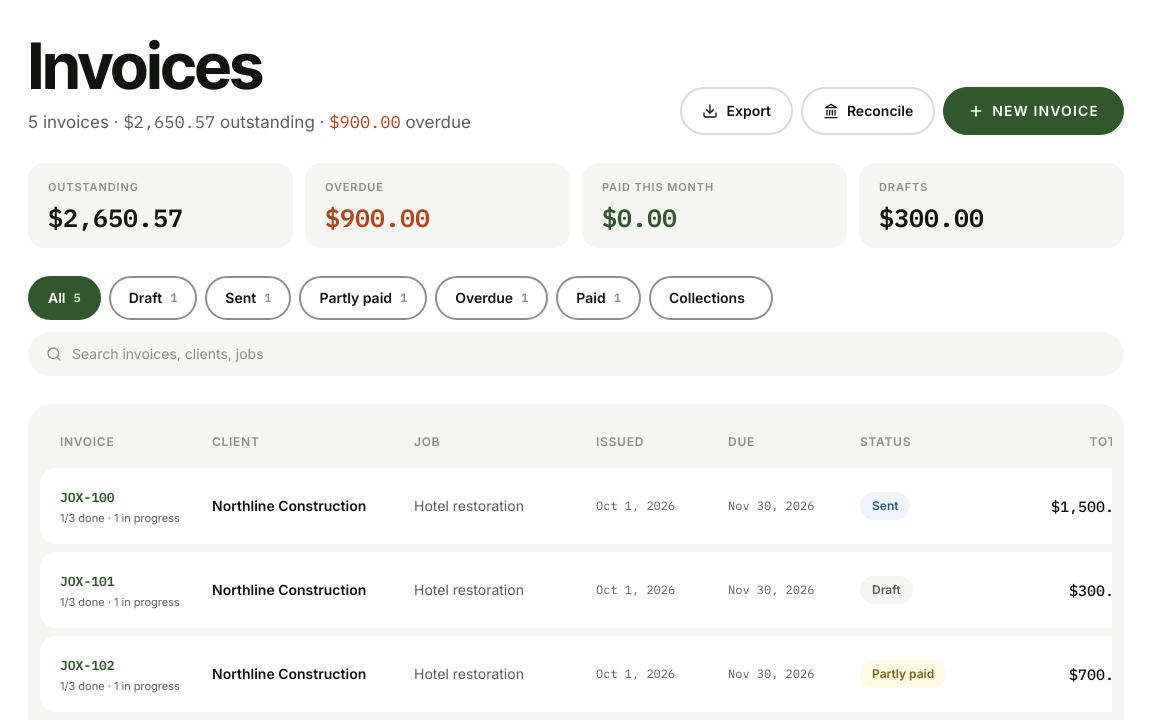
Scenario: Invoices list redesign › keeps Collections and reconciliation accessible without fetching bank data until opened
Expected: the link with test id "row-invoice-sent" is shown, [40,468,1112,544]
What coordinates should you click on to do the following:
click the button "Collections"
I would click on:
 (711, 298)
Its box is [649,276,773,320].
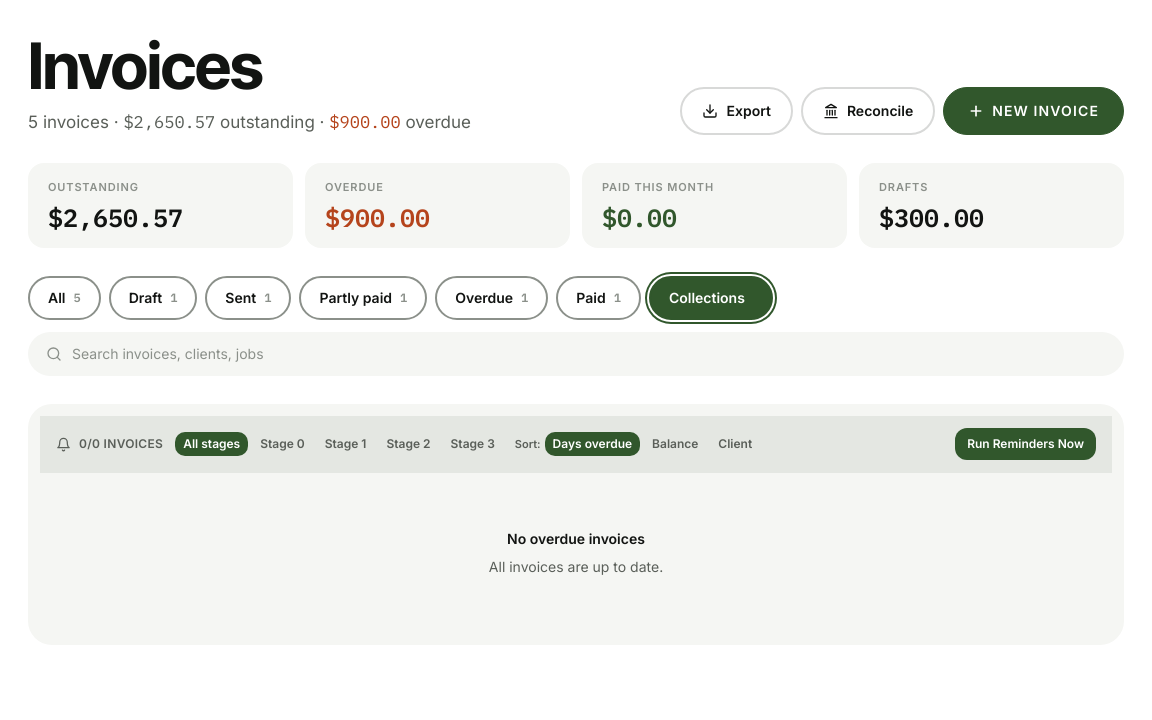
Result: the text "No overdue invoices" is shown at [507,530,645,547]
Result: the button with test id "button-process-reminders" is shown at [955,428,1096,460]
What coordinates should you click on to do the following:
click the button "Reconcile"
I would click on:
 (868, 111)
Its box is [801,87,935,135].
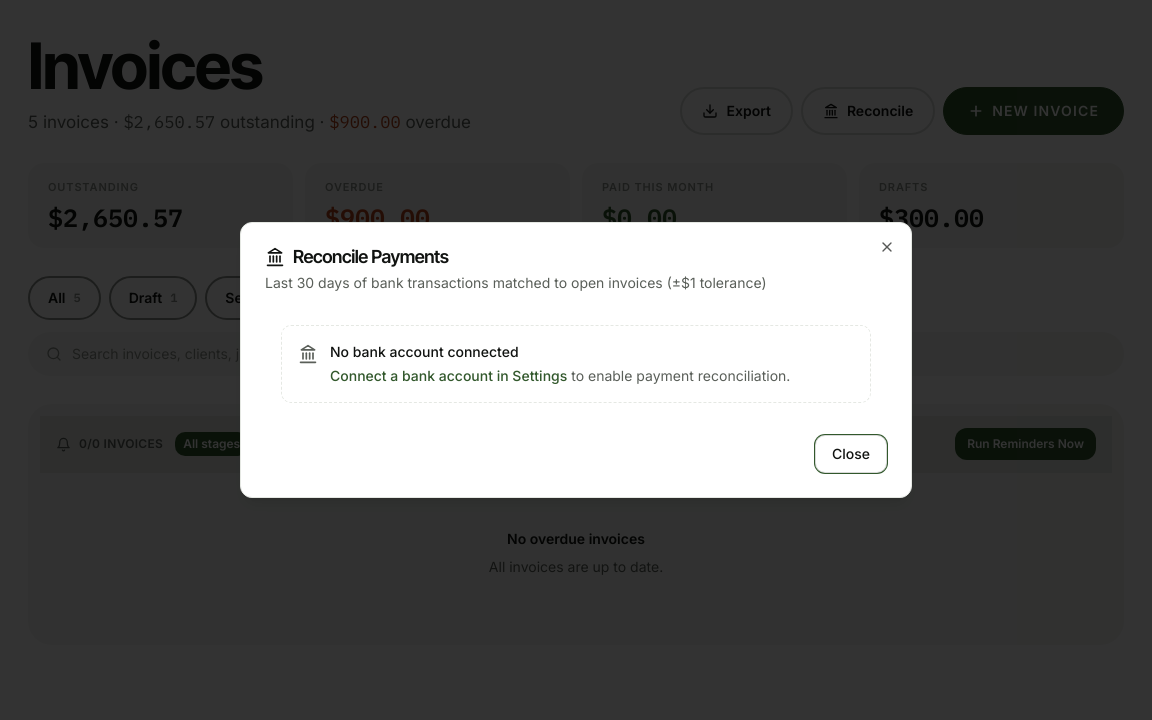
Result: the element with test id "reconcile-no-account" is shown at [281,325,871,403]
